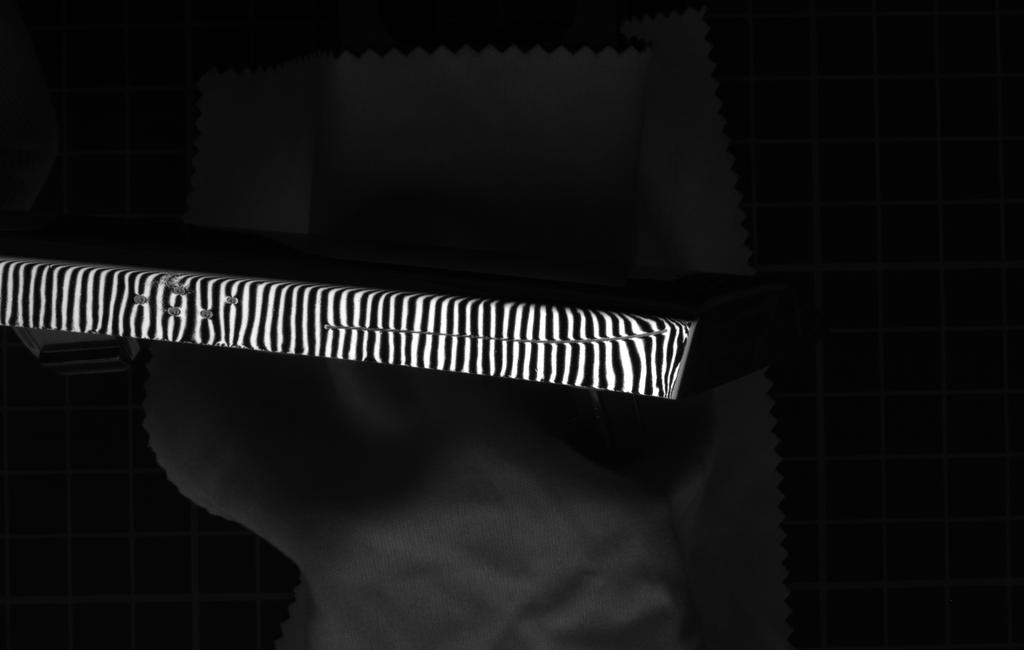Pierced: (126, 289, 151, 310), (193, 305, 218, 325), (160, 303, 186, 320), (168, 282, 190, 297), (221, 294, 245, 307)
Pitting: (147, 266, 191, 296)
Scratch: (318, 319, 675, 347)
